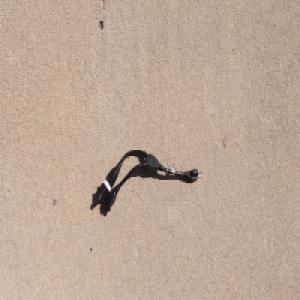Wire: (95, 148, 202, 212)
